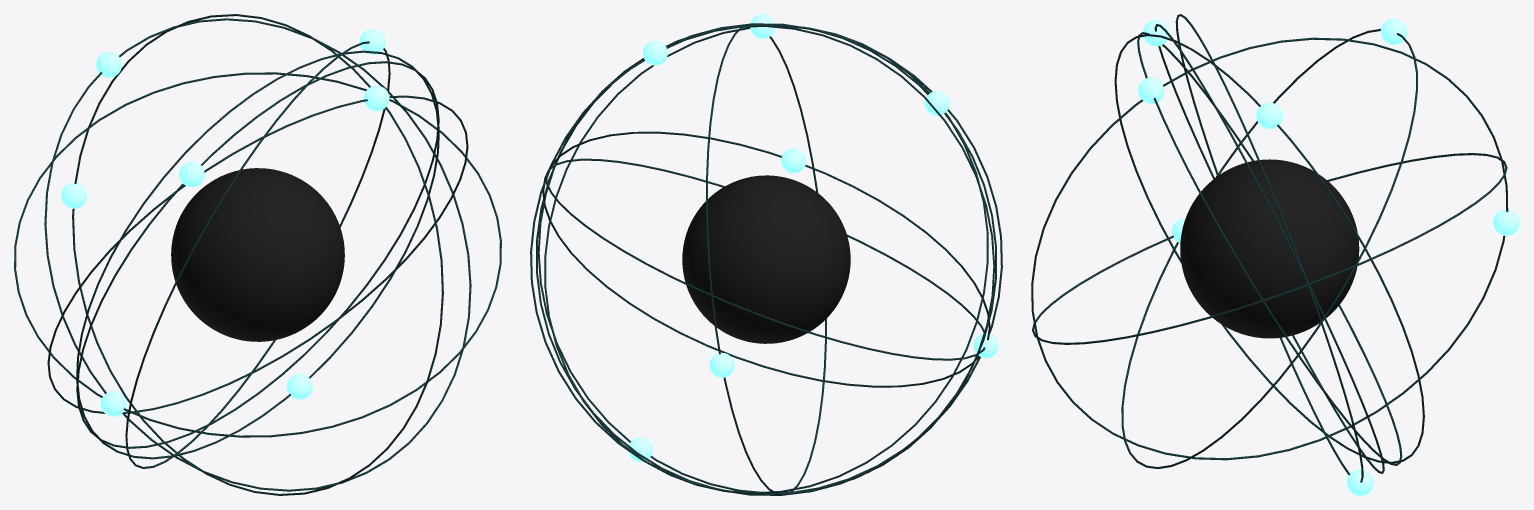
Rendered from expensum-atom-animated.glb.
The picture shows the model from 3 angles, left to right: view 1: azimuth 30°, elevation 25°; view 2: azimuth 150°, elevation 25°; view 3: azimuth 270°, elevation 25°; orthographic projection. The views are drawn at different scales.
Parts seen in each view (by area): view 1: Nucleus, Orbit_02, Orbit_03, Orbit_06, Orbit_05, Orbit_07, Orbit_04, Orbit_01, Electron_07, Electron_04, Electron_03, Electron_06 (+2 smaller); view 2: Nucleus, Orbit_04, Orbit_01, Orbit_07, Orbit_05, Orbit_02, Orbit_03, Orbit_06, Electron_02, Electron_01, Electron_06; view 3: Nucleus, Orbit_06, Orbit_01, Orbit_02, Orbit_03, Orbit_05, Orbit_04, Orbit_07, Electron_01, Electron_06, Electron_04, Electron_02 (+1 smaller).
Part boxes in pixels (<box>): Nucleus: <box>171,168,344,341</box>; Orbit_02: <box>44,18,471,491</box>; Orbit_03: <box>14,72,501,437</box>; Orbit_06: <box>72,14,443,495</box>; Orbit_05: <box>76,50,439,459</box>; Orbit_07: <box>76,61,439,448</box>; Orbit_04: <box>47,95,468,413</box>; Orbit_01: <box>125,41,390,468</box>; Electron_07: <box>179,161,204,187</box>; Electron_04: <box>363,85,389,111</box>; Electron_03: <box>100,391,126,416</box>; Electron_06: <box>61,183,86,208</box>; Nucleus: <box>682,175,850,343</box>; Orbit_04: <box>544,27,988,494</box>; Orbit_01: <box>530,24,1002,493</box>; Orbit_07: <box>536,23,996,495</box>; Orbit_05: <box>538,25,995,492</box>; Orbit_02: <box>542,131,990,387</box>; Orbit_03: <box>545,158,985,360</box>; Orbit_06: <box>706,23,826,495</box>; Electron_02: <box>781,148,806,173</box>; Electron_01: <box>643,40,667,65</box>; Electron_06: <box>709,353,734,377</box>; Nucleus: <box>1180,159,1359,338</box>; Orbit_06: <box>1031,37,1508,460</box>; Orbit_01: <box>1114,34,1424,463</box>; Orbit_02: <box>1121,29,1417,468</box>; Orbit_03: <box>1032,153,1507,344</box>; Orbit_05: <box>1175,14,1363,482</box>; Orbit_04: <box>1137,32,1402,465</box>; Orbit_07: <box>1154,24,1384,473</box>; Electron_01: <box>1256,102,1282,129</box>; Electron_06: <box>1493,209,1519,235</box>; Electron_04: <box>1138,77,1164,103</box>; Electron_02: <box>1380,18,1407,44</box>.
Bounding box in the file's own units: 5.59 × 5.55 × 5.46.
